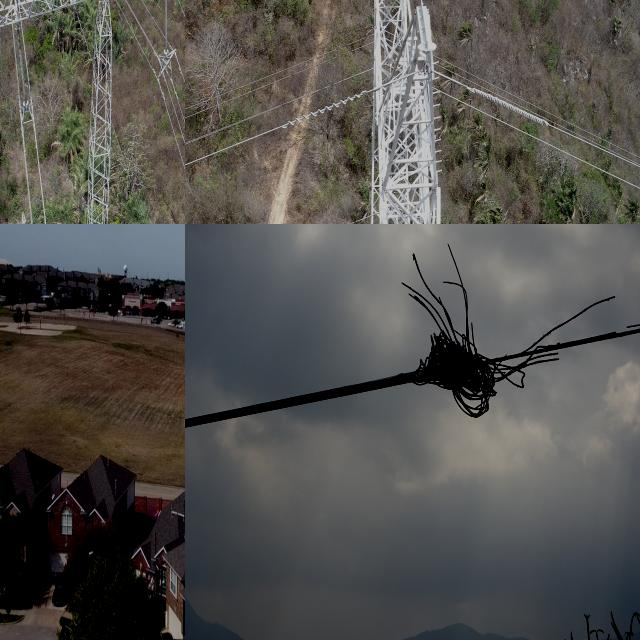杆塔: (0, 0, 170, 224), (375, 0, 429, 224)
正常电缆: (444, 89, 640, 195), (444, 71, 640, 173), (185, 83, 370, 173), (185, 63, 370, 148), (185, 39, 371, 123)
正常绝缘子: (14, 23, 29, 107), (162, 0, 171, 60)
电缆破损: (386, 224, 640, 441)
